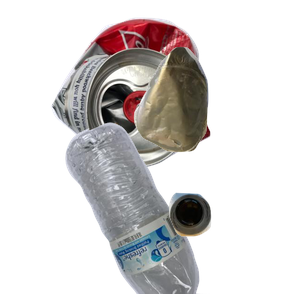glass: (166, 190, 300, 300)
metal: (48, 15, 251, 175)
plastic: (63, 120, 263, 300)
trash: (131, 44, 300, 189)
